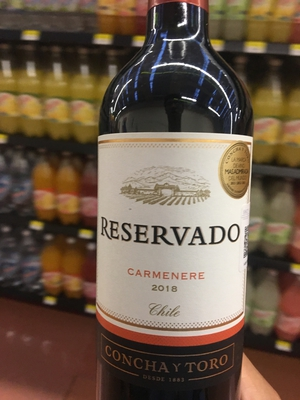reservado carmenere: (89, 2, 259, 400)
